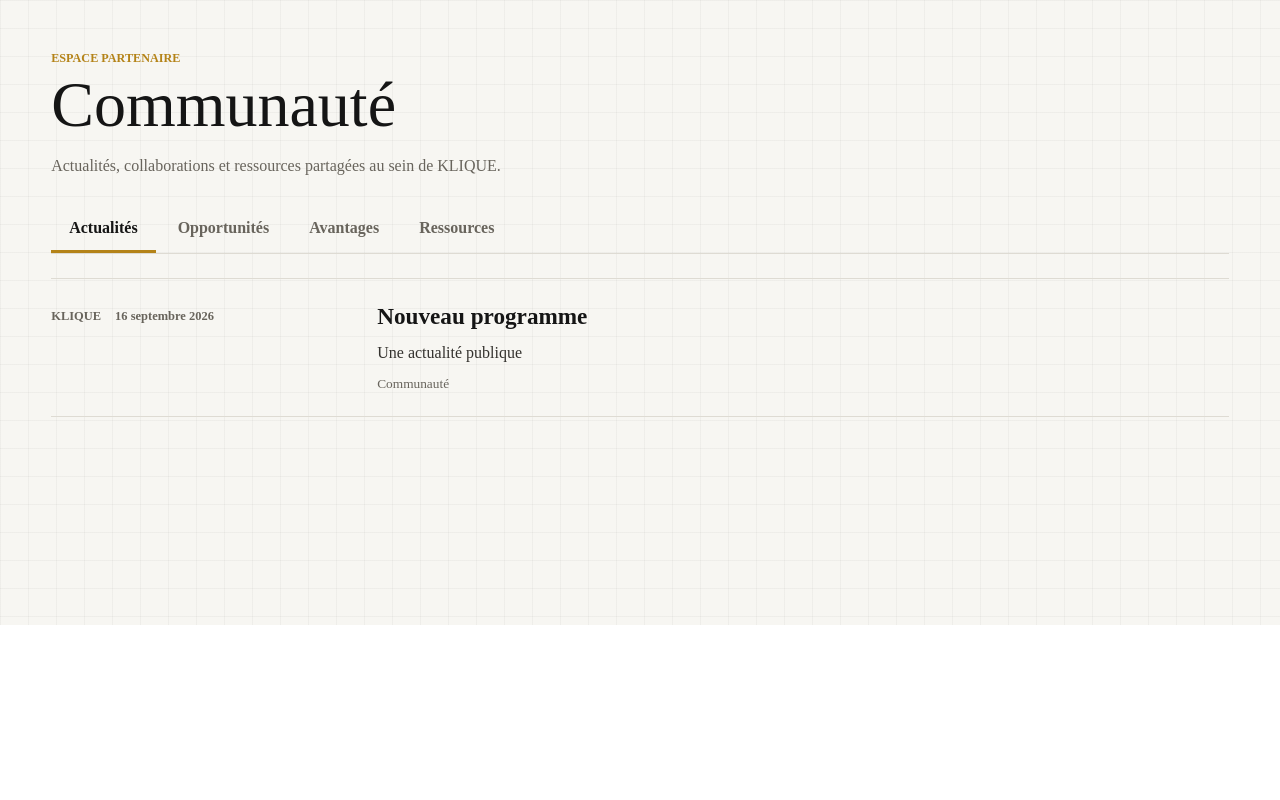
Test case: PartnerCommunityPage › loads and displays all four read-only projections
Click the tab "Opportunités": (223, 230) [160,206,287,252]
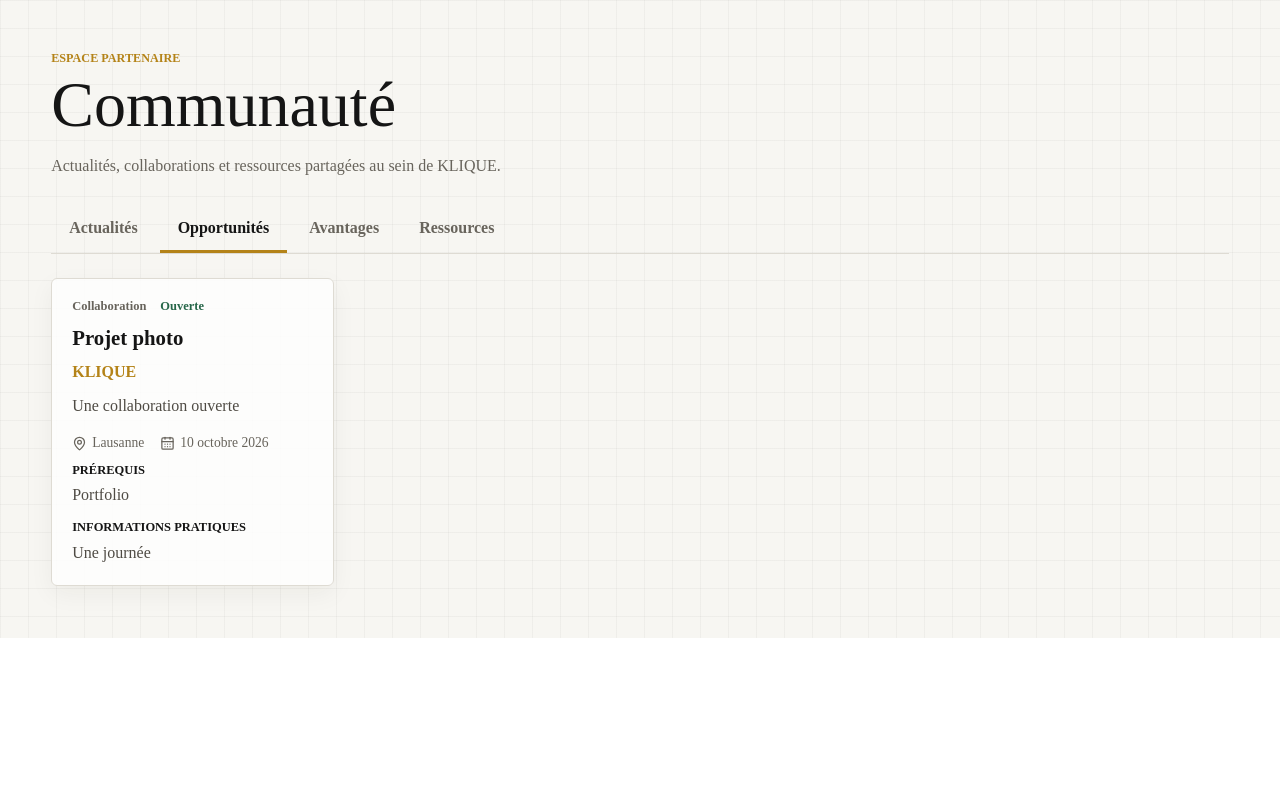
Check: the text "Projet photo" is shown, box [72,326,183,348]
Click the tab "Avantages": (344, 230) [291,206,397,252]
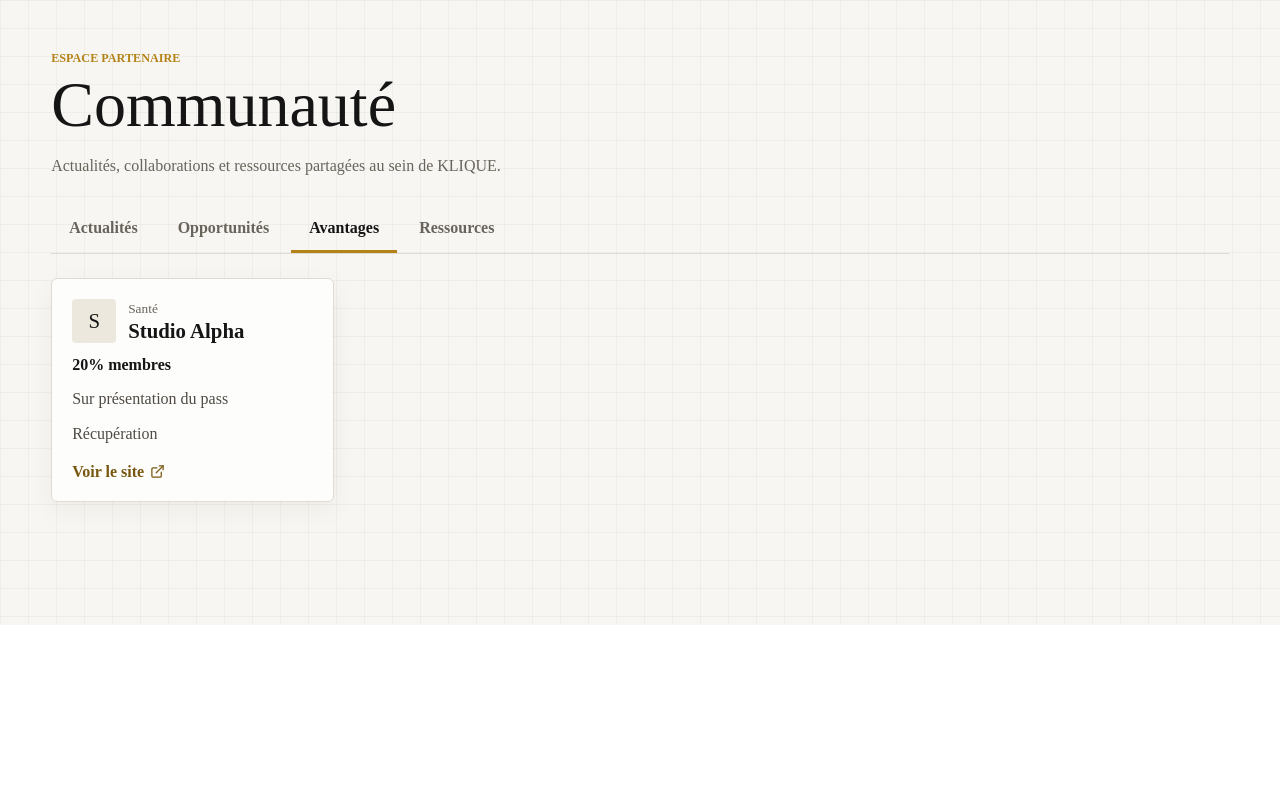
Check: the text "20% membres" is shown, box [72,356,171,372]
Click the tab "Ressources": (457, 230) [401,206,512,252]
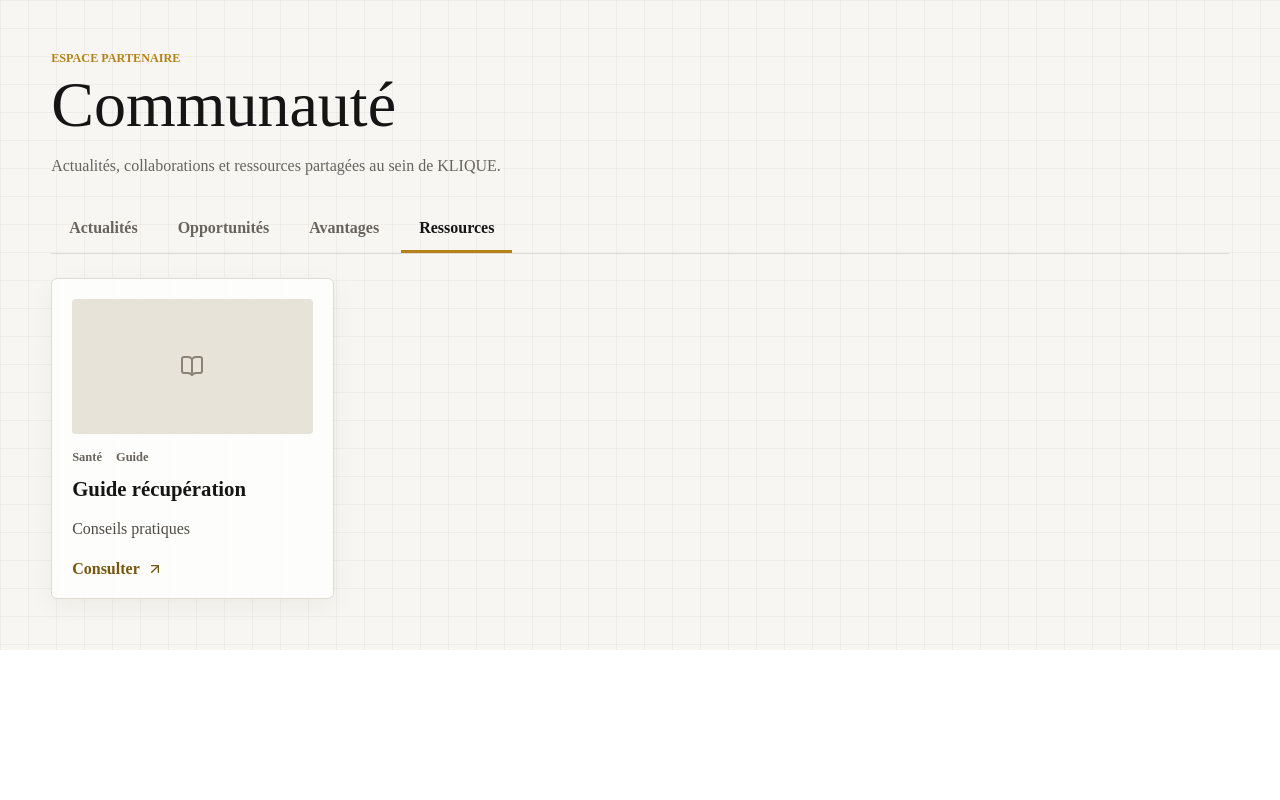
Check: the text "Guide récupération" is shown, box [72,477,246,500]
